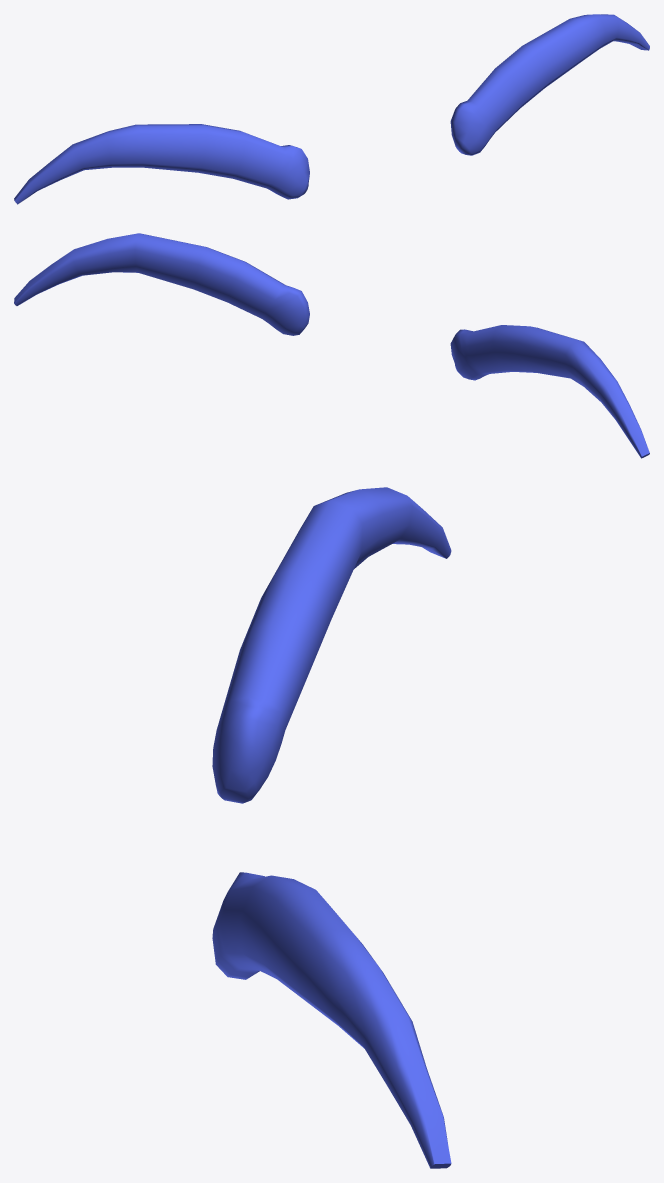
Rendered from Eyebrows_05_03.fbx.
The picture shows the model from 3 angles, top to bottom: view 1: azimuth 30°, elevation 25°; view 2: azimuth 150°, elevation 25°; view 3: azimuth 270°, elevation 25°; orthographic projection. The views are drawn at different scales.
Parts seen in each view (by area): view 1: Eyebrows_05_03; view 2: Eyebrows_05_03; view 3: Eyebrows_05_03.
Part boxes in pixels (<box>): Eyebrows_05_03: <box>14,14,649,204</box>; Eyebrows_05_03: <box>14,233,649,458</box>; Eyebrows_05_03: <box>212,487,451,1168</box>.
Bounding box in the file's own units: 19.76 × 2.56 × 3.22.
